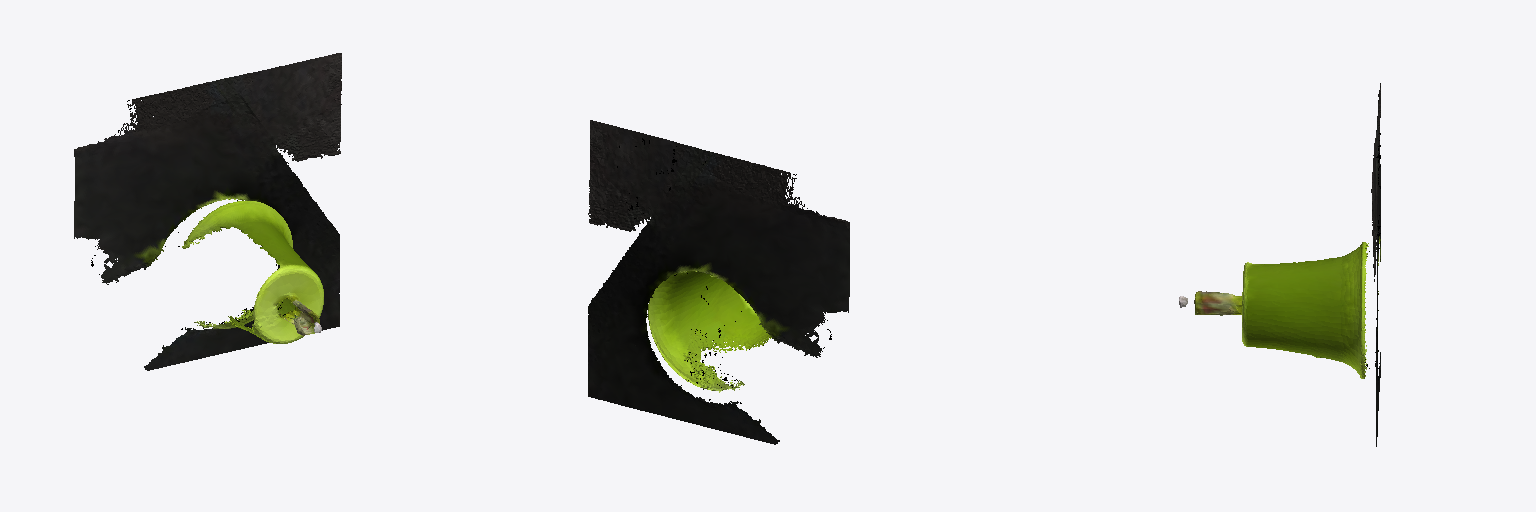
3 renders of one model, left to right at view 1: azimuth 30°, elevation 25°; view 2: azimuth 150°, elevation 25°; view 3: azimuth 270°, elevation 25°, orthographic.
Bounding box in the file's own units: 0.9962 × 0.9963 × 0.6639.
1 materials, 1 textured.